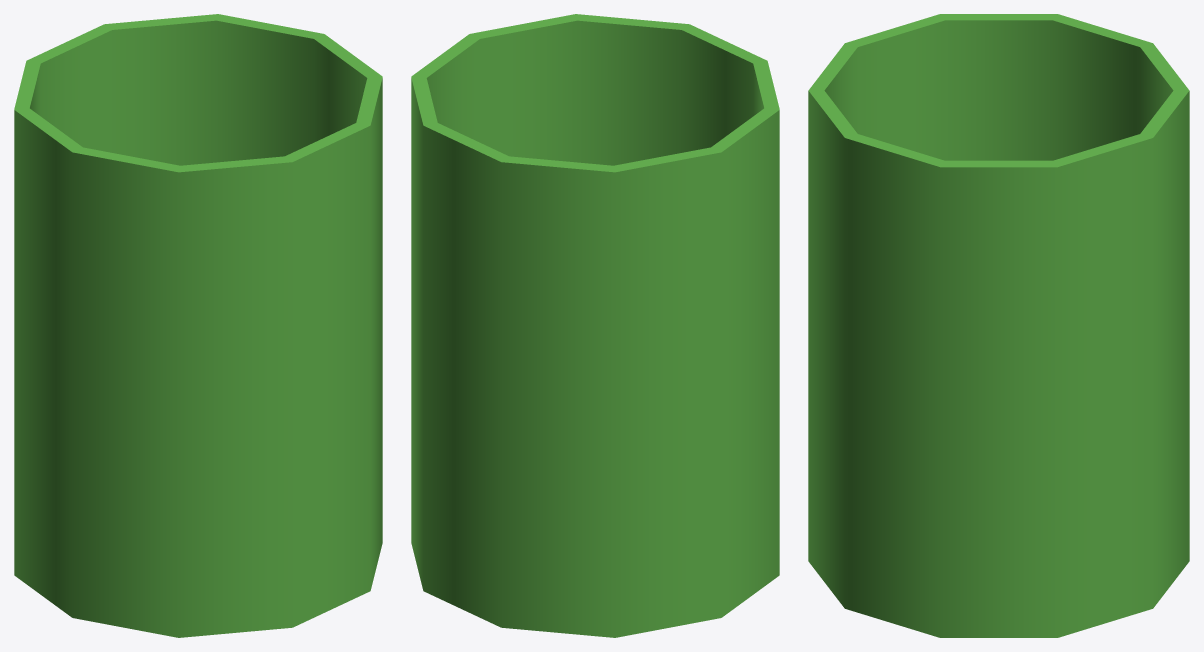
The model's file is pot.fbx.
3 renders of one model, left to right at view 1: azimuth 30°, elevation 25°; view 2: azimuth 150°, elevation 25°; view 3: azimuth 270°, elevation 25°, orthographic.
Parts seen in each view (by area): view 1: pot.001; view 2: pot.001; view 3: pot.001.
Part boxes in pixels (<box>): pot.001: <box>14,14,382,637</box>; pot.001: <box>411,14,779,637</box>; pot.001: <box>808,14,1189,637</box>.
Bounding box in the file's own units: 0.1447 × 0.2074 × 0.1521.
